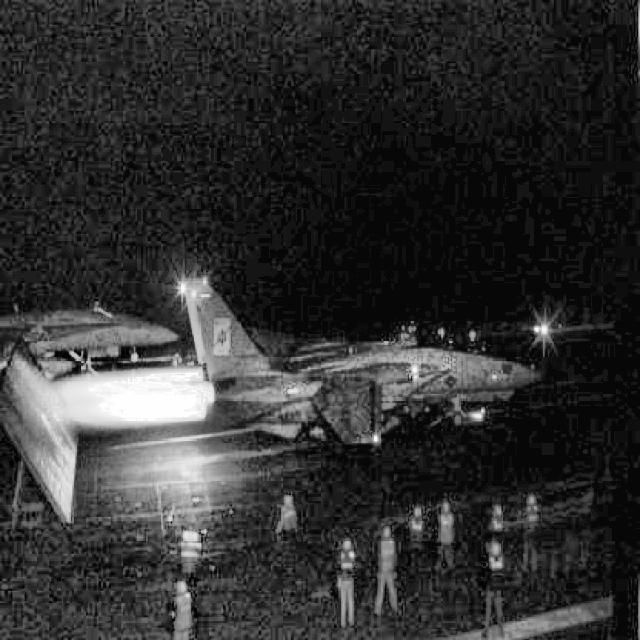F14: (181, 277, 544, 465)
F18: (0, 301, 180, 385)
